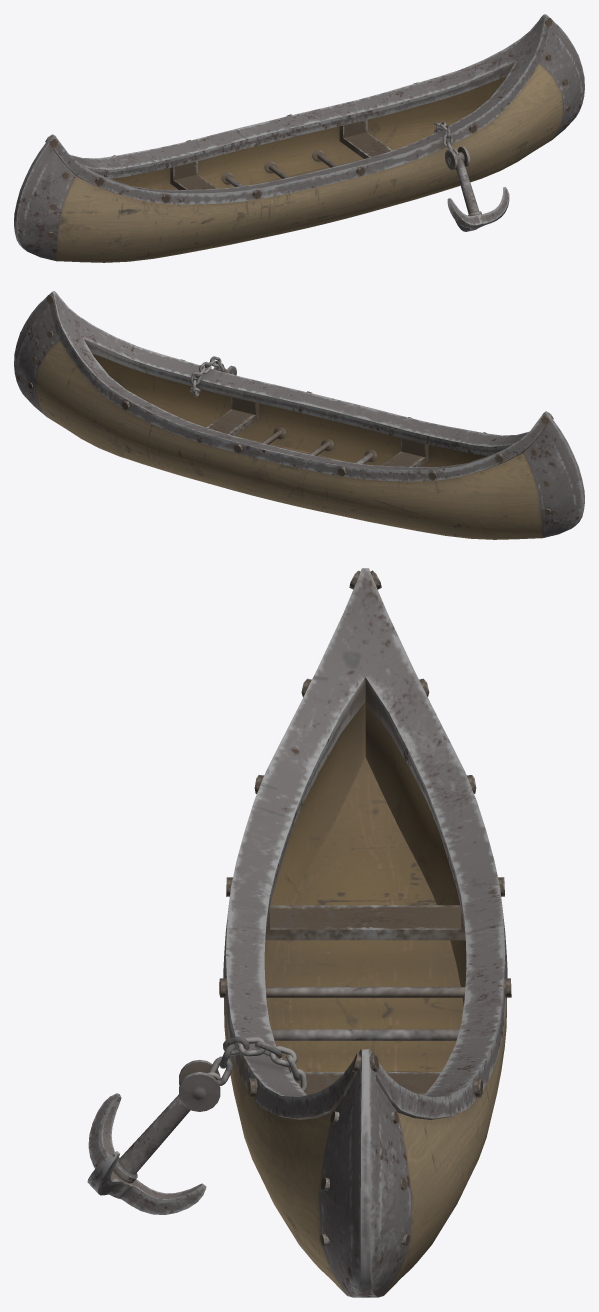
3 renders of one model, top to bottom at view 1: azimuth 30°, elevation 25°; view 2: azimuth 150°, elevation 25°; view 3: azimuth 270°, elevation 25°, orthographic. The views are drawn at different scales.
Visible parts, largest first — view 1: Canoe.1_1; view 2: Canoe.1_1; view 3: Canoe.1_1.
Part boxes in pixels (x1,y1,x2,y2): Canoe.1_1: [14, 14, 584, 262]; Canoe.1_1: [14, 291, 584, 539]; Canoe.1_1: [87, 568, 511, 1297].
Bounding box in the file's own units: 0.4666 × 0.1141 × 0.1507.
1 material, 1 textured.
